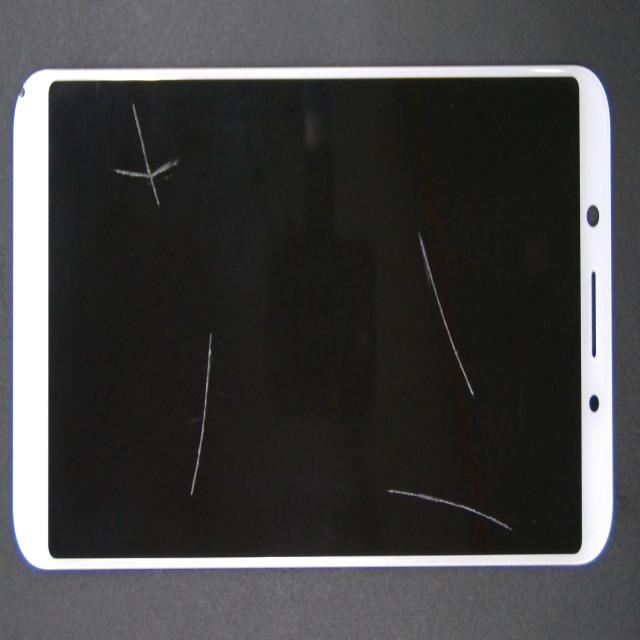scratch: (419, 235, 472, 398), (114, 101, 180, 204), (386, 487, 512, 533), (192, 340, 212, 498)
